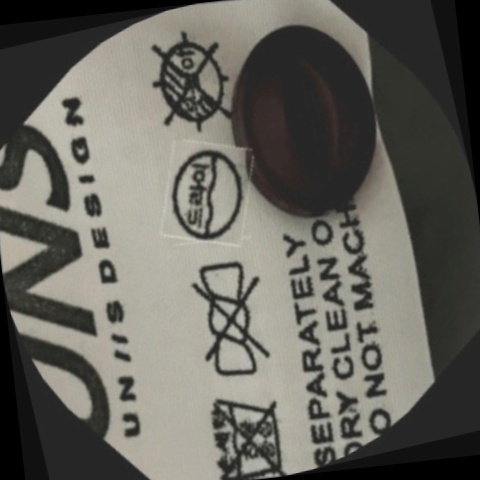DN_dry: (96, 0, 288, 180)
DN_wring: (125, 212, 341, 429)
dry_clean: (121, 105, 296, 283)
hand_wash: (150, 338, 329, 480)
